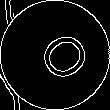O_SW: (22, 23, 88, 87)
